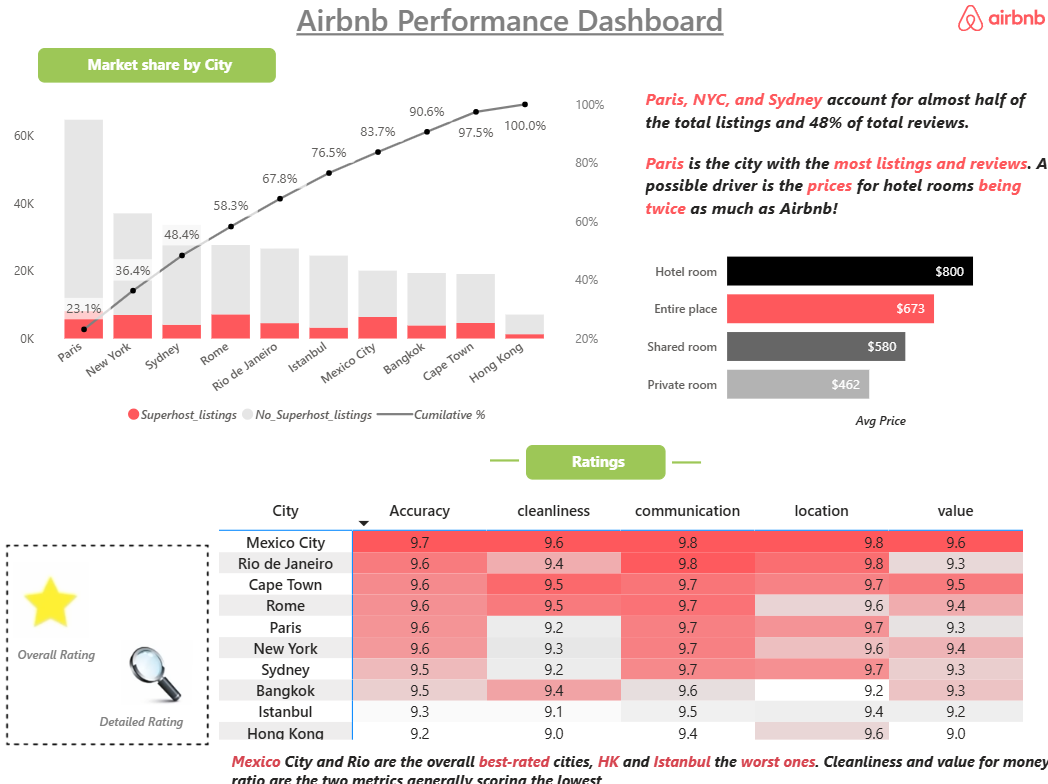

The page's visual inventory and layout, read from the dashboard file:
{"tool":"powerbi","page":{"name":"Ratings","canvas":[960,720],"ordinal":1},"visuals":[{"type":"textbox","box":[223,-0.5,480,50.1],"z":0},{"type":"image","box":[864.2,4.9,77.9,34],"z":1000},{"type":"textbox","box":[579.4,78.8,377.9,134.3],"z":2000},{"type":"lineStackedColumnComboChart","fields":{"Category":["Listings.city"],"Y":["Listings.Superhost_listings","Listings.No_Superhost_listings"],"Y2":["Listings.Cumilative %"]},"box":[13.6,82.7,539.1,311.8],"z":3000},{"type":"barChart","fields":{"Y":["Listings.Average price"],"Category":["Listings.room_type"]},"box":[579.4,208.7,358.2,185.4],"z":4000},{"type":"textbox","box":[40,48.5,213.1,30.8],"z":5000},{"type":"textbox","box":[476.9,404,124.6,30.8],"z":6000},{"type":"shape","box":[608.5,405.5,26.2,27.7],"z":7000},{"type":"shape","box":[445.4,404,26.2,27.7],"z":8000},{"type":"image","box":[3.6,473.6,198.2,220],"z":9000},{"type":"pivotTable","fields":{"Rows":["Listings.city"],"Values":["Listings.Accuracy","Listings.cleanliness","Listings.communication","Listings.location","Listings.value"]},"box":[197.3,448.2,761.8,225.5],"z":11000},{"type":"image","box":[13.4,508.7,77,68.1],"z":11000,"group":"g1"},{"type":"group","id":"g1","title":"Group 1","box":[13.4,508.7,101.2,99.4],"z":12000},{"type":"image","box":[114.6,576.7,63.6,67.2],"z":12000,"group":"g2"},{"type":"group","id":"g2","title":"Group 2","box":[90.4,576.7,87.8,91.3],"z":13000},{"type":"textbox","box":[90.4,636.7,87.8,31.3],"z":14000,"group":"g2"},{"type":"textbox","box":[209.1,673.6,750.9,46.4],"z":14000},{"type":"textbox","box":[17,576.8,97.6,31.3],"z":15000,"group":"g1"}]}

Visuals, with their boxes in screenshot pixels (x1, y1, x2, y2), scaled from the page's 960x720 canvas onto the 1048x784 screenshot:
textbox: (243,0,767,54)
image: (943,5,1028,42)
textbox: (633,86,1045,232)
lineStackedColumnComboChart - Listings.city x Listings.Superhost_listings: (15,90,603,430)
barChart - Listings.Average price x Listings.room_type: (633,227,1024,429)
textbox: (44,53,276,86)
textbox: (521,440,657,473)
shape: (664,442,693,472)
shape: (486,440,515,470)
image: (4,516,220,755)
pivotTable - Listings.city x Listings.Accuracy: (215,488,1047,734)
image: (15,554,99,628)
"Group 1" group: (15,554,125,662)
image: (125,628,195,701)
"Group 2" group: (99,628,195,727)
textbox: (99,693,195,727)
textbox: (228,733,1047,783)
textbox: (19,628,125,662)
